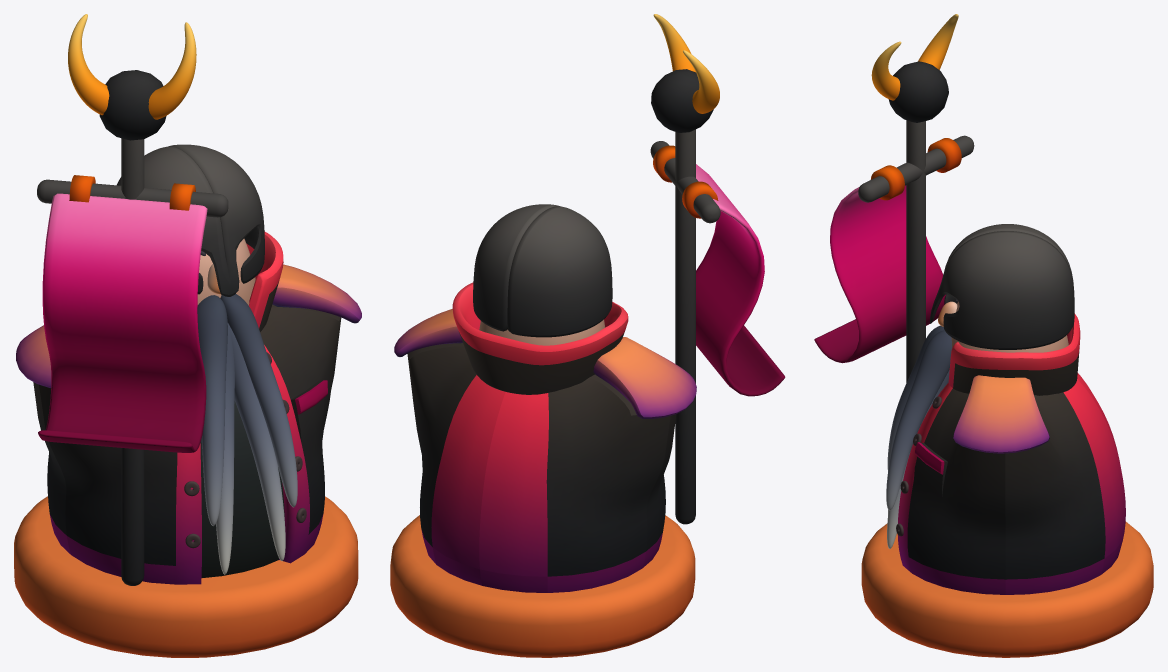
File: Inquisitor.fbx
The picture shows the model from 3 angles, left to right: view 1: azimuth 30°, elevation 25°; view 2: azimuth 150°, elevation 25°; view 3: azimuth 270°, elevation 25°; orthographic projection. The views are drawn at different scales.
Visible parts, largest first — view 1: inquisitor_Base_GEO, inquisitor_Weapon_Geo, inquisitor_Stand_Geo; view 2: inquisitor_Base_GEO, inquisitor_Weapon_Geo, inquisitor_Stand_Geo; view 3: inquisitor_Base_GEO, inquisitor_Weapon_Geo, inquisitor_Stand_Geo.
Boxes of the visible parts, box(x1,y1,x2,y2) form: inquisitor_Base_GEO: box(16, 144, 361, 584); inquisitor_Weapon_Geo: box(37, 14, 228, 585); inquisitor_Stand_Geo: box(14, 496, 358, 657); inquisitor_Base_GEO: box(394, 204, 696, 592); inquisitor_Weapon_Geo: box(650, 14, 785, 524); inquisitor_Stand_Geo: box(390, 515, 695, 657); inquisitor_Base_GEO: box(886, 224, 1125, 594); inquisitor_Weapon_Geo: box(814, 14, 974, 382); inquisitor_Stand_Geo: box(861, 521, 1153, 657).
Bounding box in the file's own units: 99.55 × 162 × 93.
